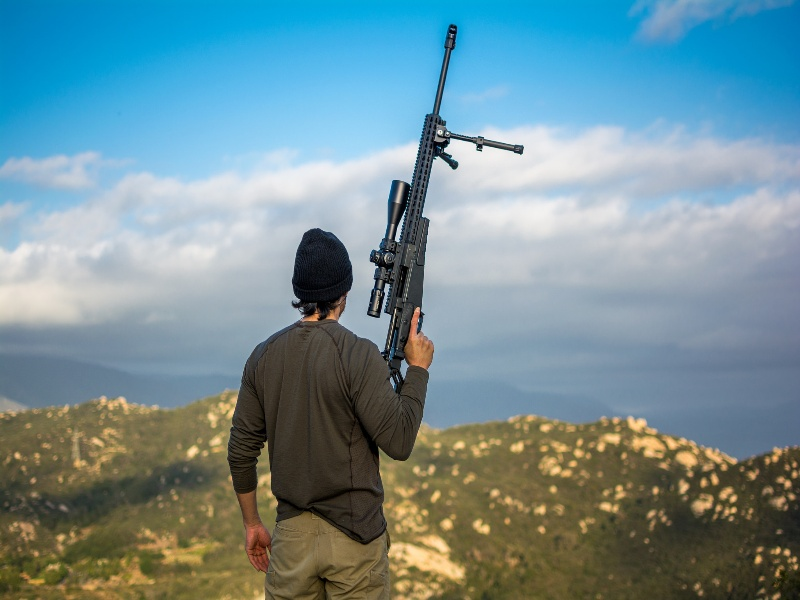person: (226, 228, 433, 600)
weapon: (367, 23, 523, 392)
